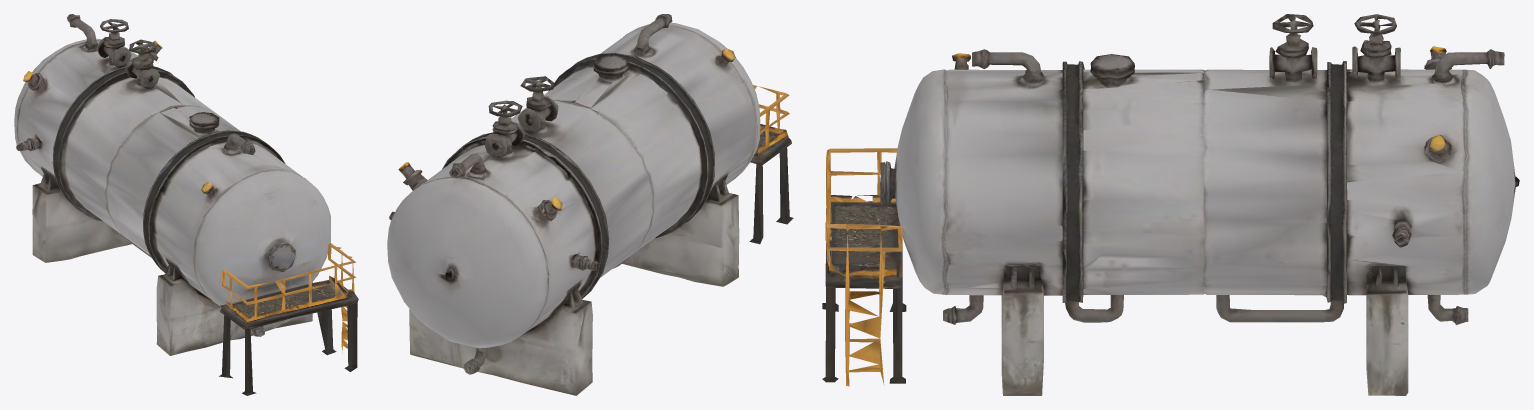
File: htankSkid.glb
3 views of the same model, side by side, from view 1: azimuth 30°, elevation 25°; view 2: azimuth 150°, elevation 25°; view 3: azimuth 270°, elevation 25° (orthographic). The views are drawn at different scales.
Parts seen in each view (by area): view 1: htankSkid; view 2: htankSkid; view 3: htankSkid.
Boxes of the visible parts, <box> form: htankSkid: <box>14,14,358,395</box>; htankSkid: <box>387,14,793,395</box>; htankSkid: <box>822,14,1519,395</box>.
Size of the model in its own units: 5.51 by 6.68 by 13.
1 material, 1 textured.
